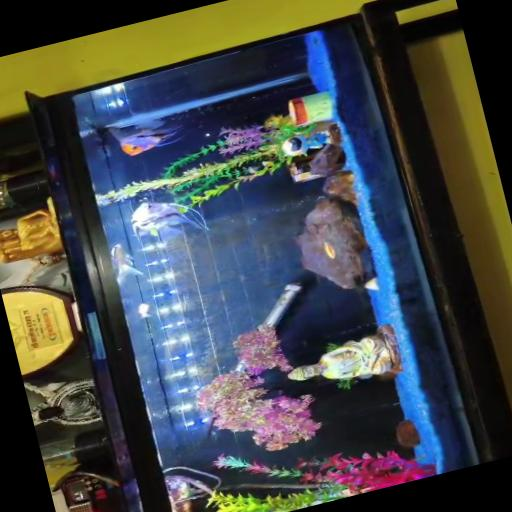Fish: (131, 201, 208, 237), (109, 119, 183, 155), (111, 245, 144, 283), (324, 242, 336, 258), (138, 303, 151, 317)
